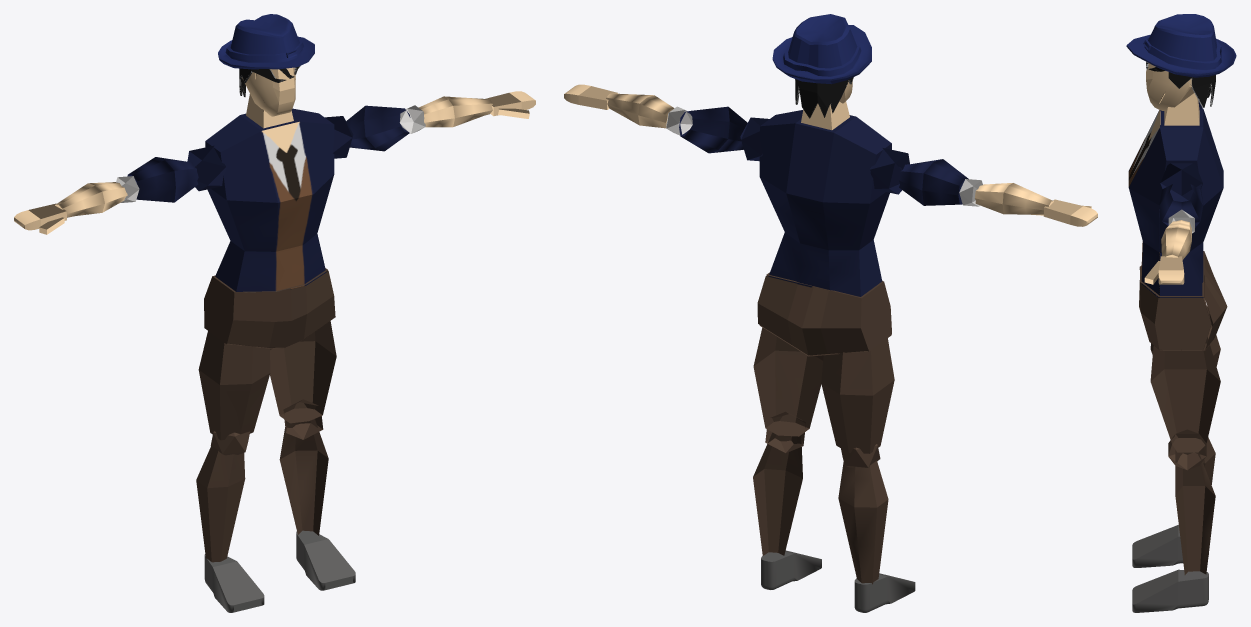
The model's file is Ruk.fbx.
3 renders of one model, left to right at view 1: azimuth 30°, elevation 25°; view 2: azimuth 150°, elevation 25°; view 3: azimuth 270°, elevation 25°, orthographic. The views are drawn at different scales.
Parts seen in each view (by area): view 1: Ruk, Fedora; view 2: Ruk, Fedora, Hair; view 3: Ruk, Fedora, Hair.
Part boxes in pixels (<box>): Ruk: <box>14,67,535,612</box>; Fedora: <box>218,14,314,69</box>; Ruk: <box>564,81,1097,612</box>; Fedora: <box>772,14,871,84</box>; Hair: <box>795,77,853,118</box>; Ruk: <box>1128,63,1227,612</box>; Fedora: <box>1126,14,1236,77</box>; Hair: <box>1146,62,1215,107</box>.
Size of the model in its own units: 20.52 by 21.26 by 3.8.
3 materials, 3 textured.
